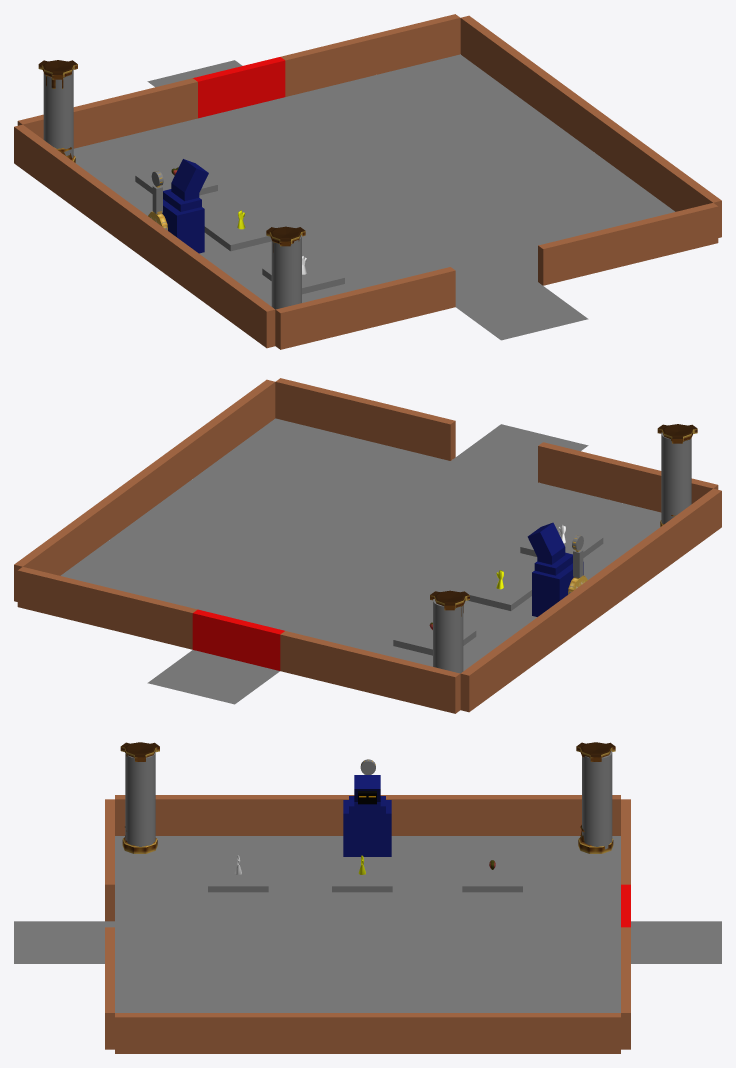
File: Tienda Niveles.fbx
3 renders of one model, top to bottom at view 1: azimuth 30°, elevation 25°; view 2: azimuth 150°, elevation 25°; view 3: azimuth 270°, elevation 25°, orthographic.
Visible parts, largest first — view 1: Ground, Wall__3_, Wall__2_, Wall__4_, Wall__5_, Wall__7_, Wall__6_, GameObject, Door__1_, Cylinder, Cylinder_2, Cube (+7 smaller); view 2: Ground, Wall__3_, Wall__2_, Wall__6_, Wall__5_, Wall__7_, Wall__4_, GameObject_1, Door__1_, GameObject, Cylinder_2, Cylinder (+7 smaller); view 3: Ground, Wall__2_, Wall__3_, GameObject, GameObject_1, Cylinder, Cylinder_2, Cube__5_, Cube_4, Cube_3, Cube, Wall__7_ (+6 smaller).
Part boxes in pixels (x1,y1,x2,y2): Ground: (73, 54, 675, 306); Wall__3_: (14, 124, 275, 348); Wall__2_: (460, 15, 721, 237); Wall__4_: (275, 267, 455, 349); Wall__5_: (538, 203, 718, 285); Wall__7_: (280, 14, 460, 96); Wall__6_: (17, 78, 197, 148); GameObject: (455, 282, 588, 340); Door__1_: (193, 57, 285, 118); Cylinder: (43, 69, 73, 157); Cylinder_2: (271, 235, 301, 309); Cube: (204, 210, 276, 251); Ground: (60, 418, 661, 670); Wall__3_: (460, 488, 721, 712); Wall__2_: (14, 379, 275, 601); Wall__6_: (280, 631, 460, 713); Wall__5_: (275, 378, 455, 460); Wall__7_: (17, 567, 197, 649); Wall__4_: (538, 442, 718, 512); GameObject_1: (147, 650, 279, 704); Door__1_: (192, 609, 284, 670); GameObject: (451, 424, 588, 482); Cylinder_2: (661, 432, 691, 523); Cylinder: (433, 599, 463, 673); Ground: (115, 836, 620, 1012); Wall__2_: (115, 1013, 620, 1053); Wall__3_: (115, 795, 620, 835); GameObject: (14, 921, 114, 963); GameObject_1: (631, 921, 721, 963); Cylinder: (582, 751, 612, 849); Cylinder_2: (125, 751, 155, 846); Cube__5_: (343, 800, 391, 856); Cube_4: (462, 860, 522, 892); Cube_3: (208, 860, 268, 892); Cube: (332, 860, 392, 892); Wall__7_: (621, 927, 630, 1049).
Size of the model in its own units: 5200 by 1085 by 7000.
Materials: 12 (3 with a texture image).
